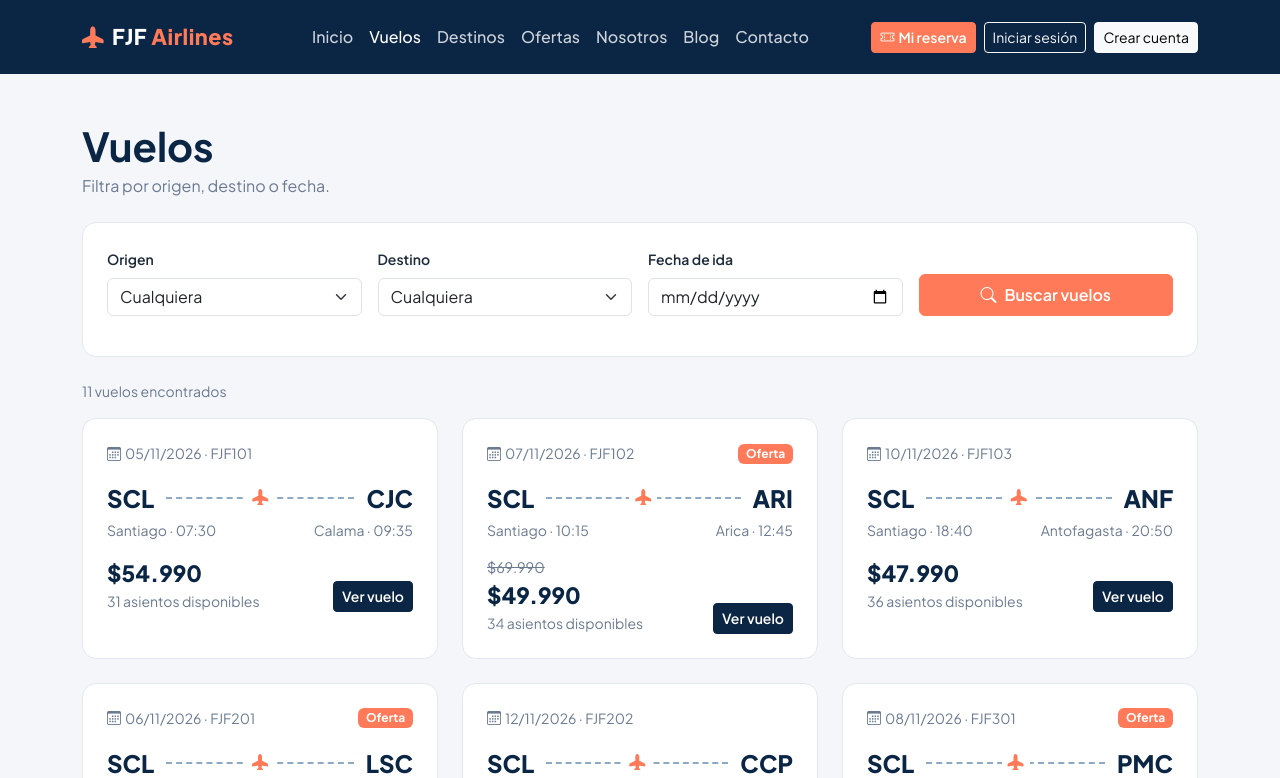
Búsqueda de vuelos › al buscar por destino solo muestra los vuelos a esa ciudad
Select "Puerto Montt (PMC)" in the dropdown labelled "Destino" at (505, 297), box [378, 278, 632, 316]
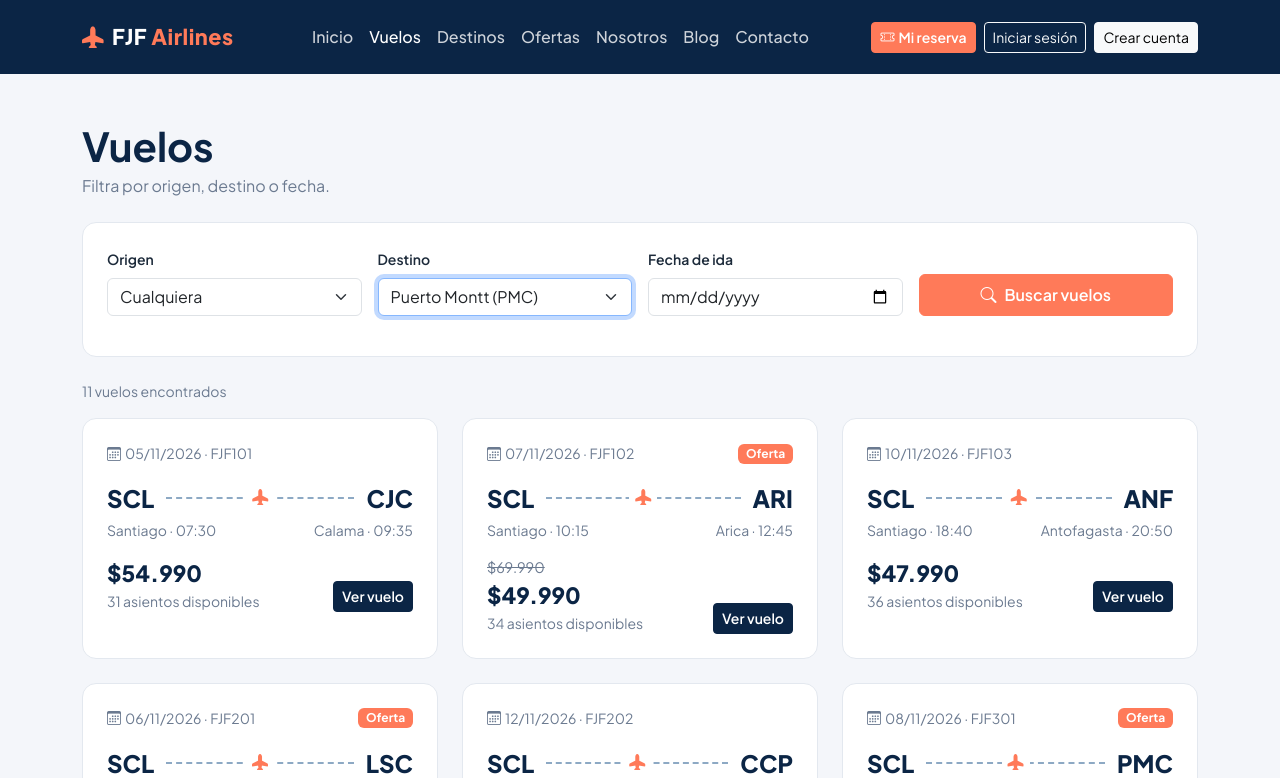
Click the button "Buscar vuelos" at (1046, 295), box [918, 274, 1173, 316]
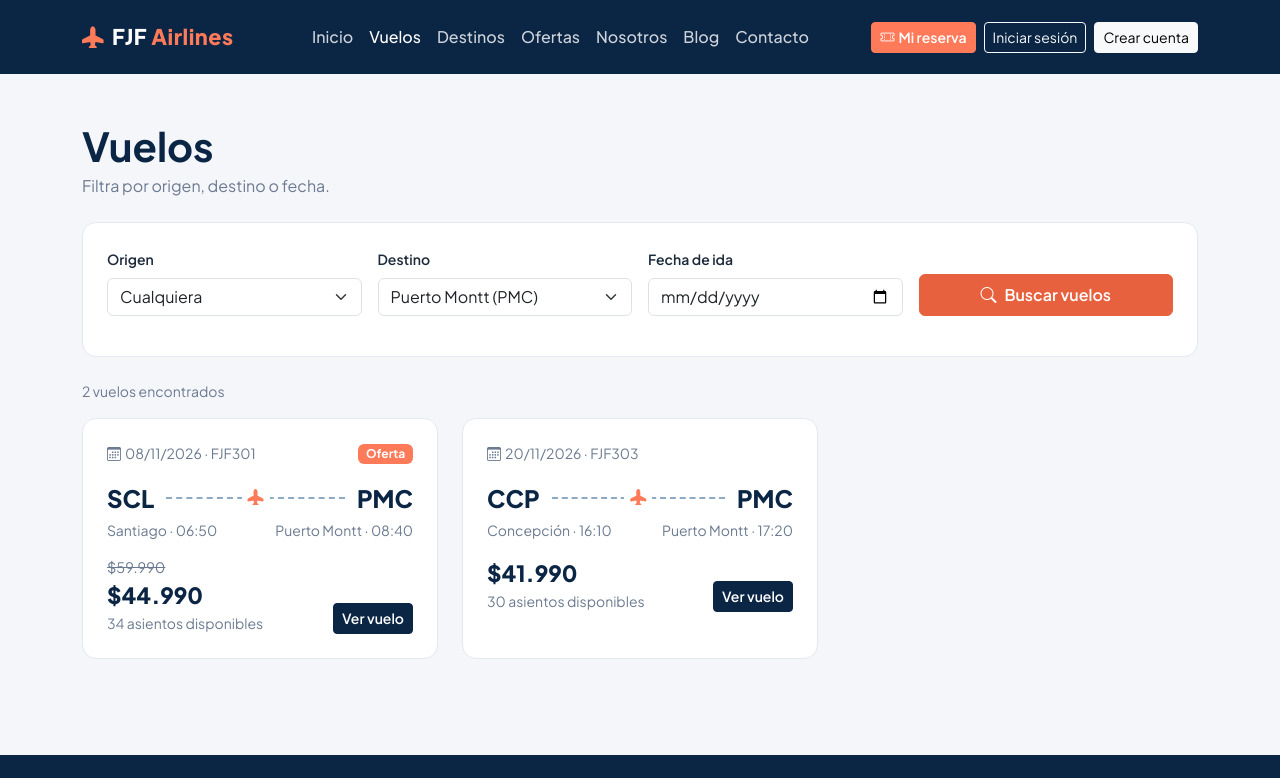
Check: the text "2 vuelos encontrados" is shown, box [82, 382, 225, 400]
